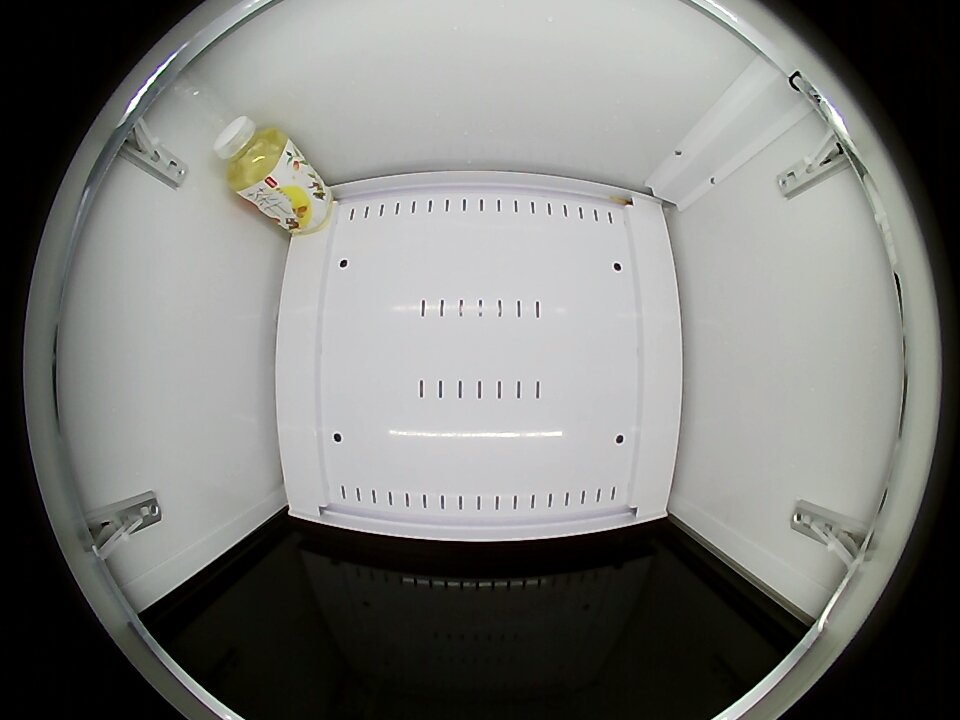chapai2: (214, 116, 291, 196)
